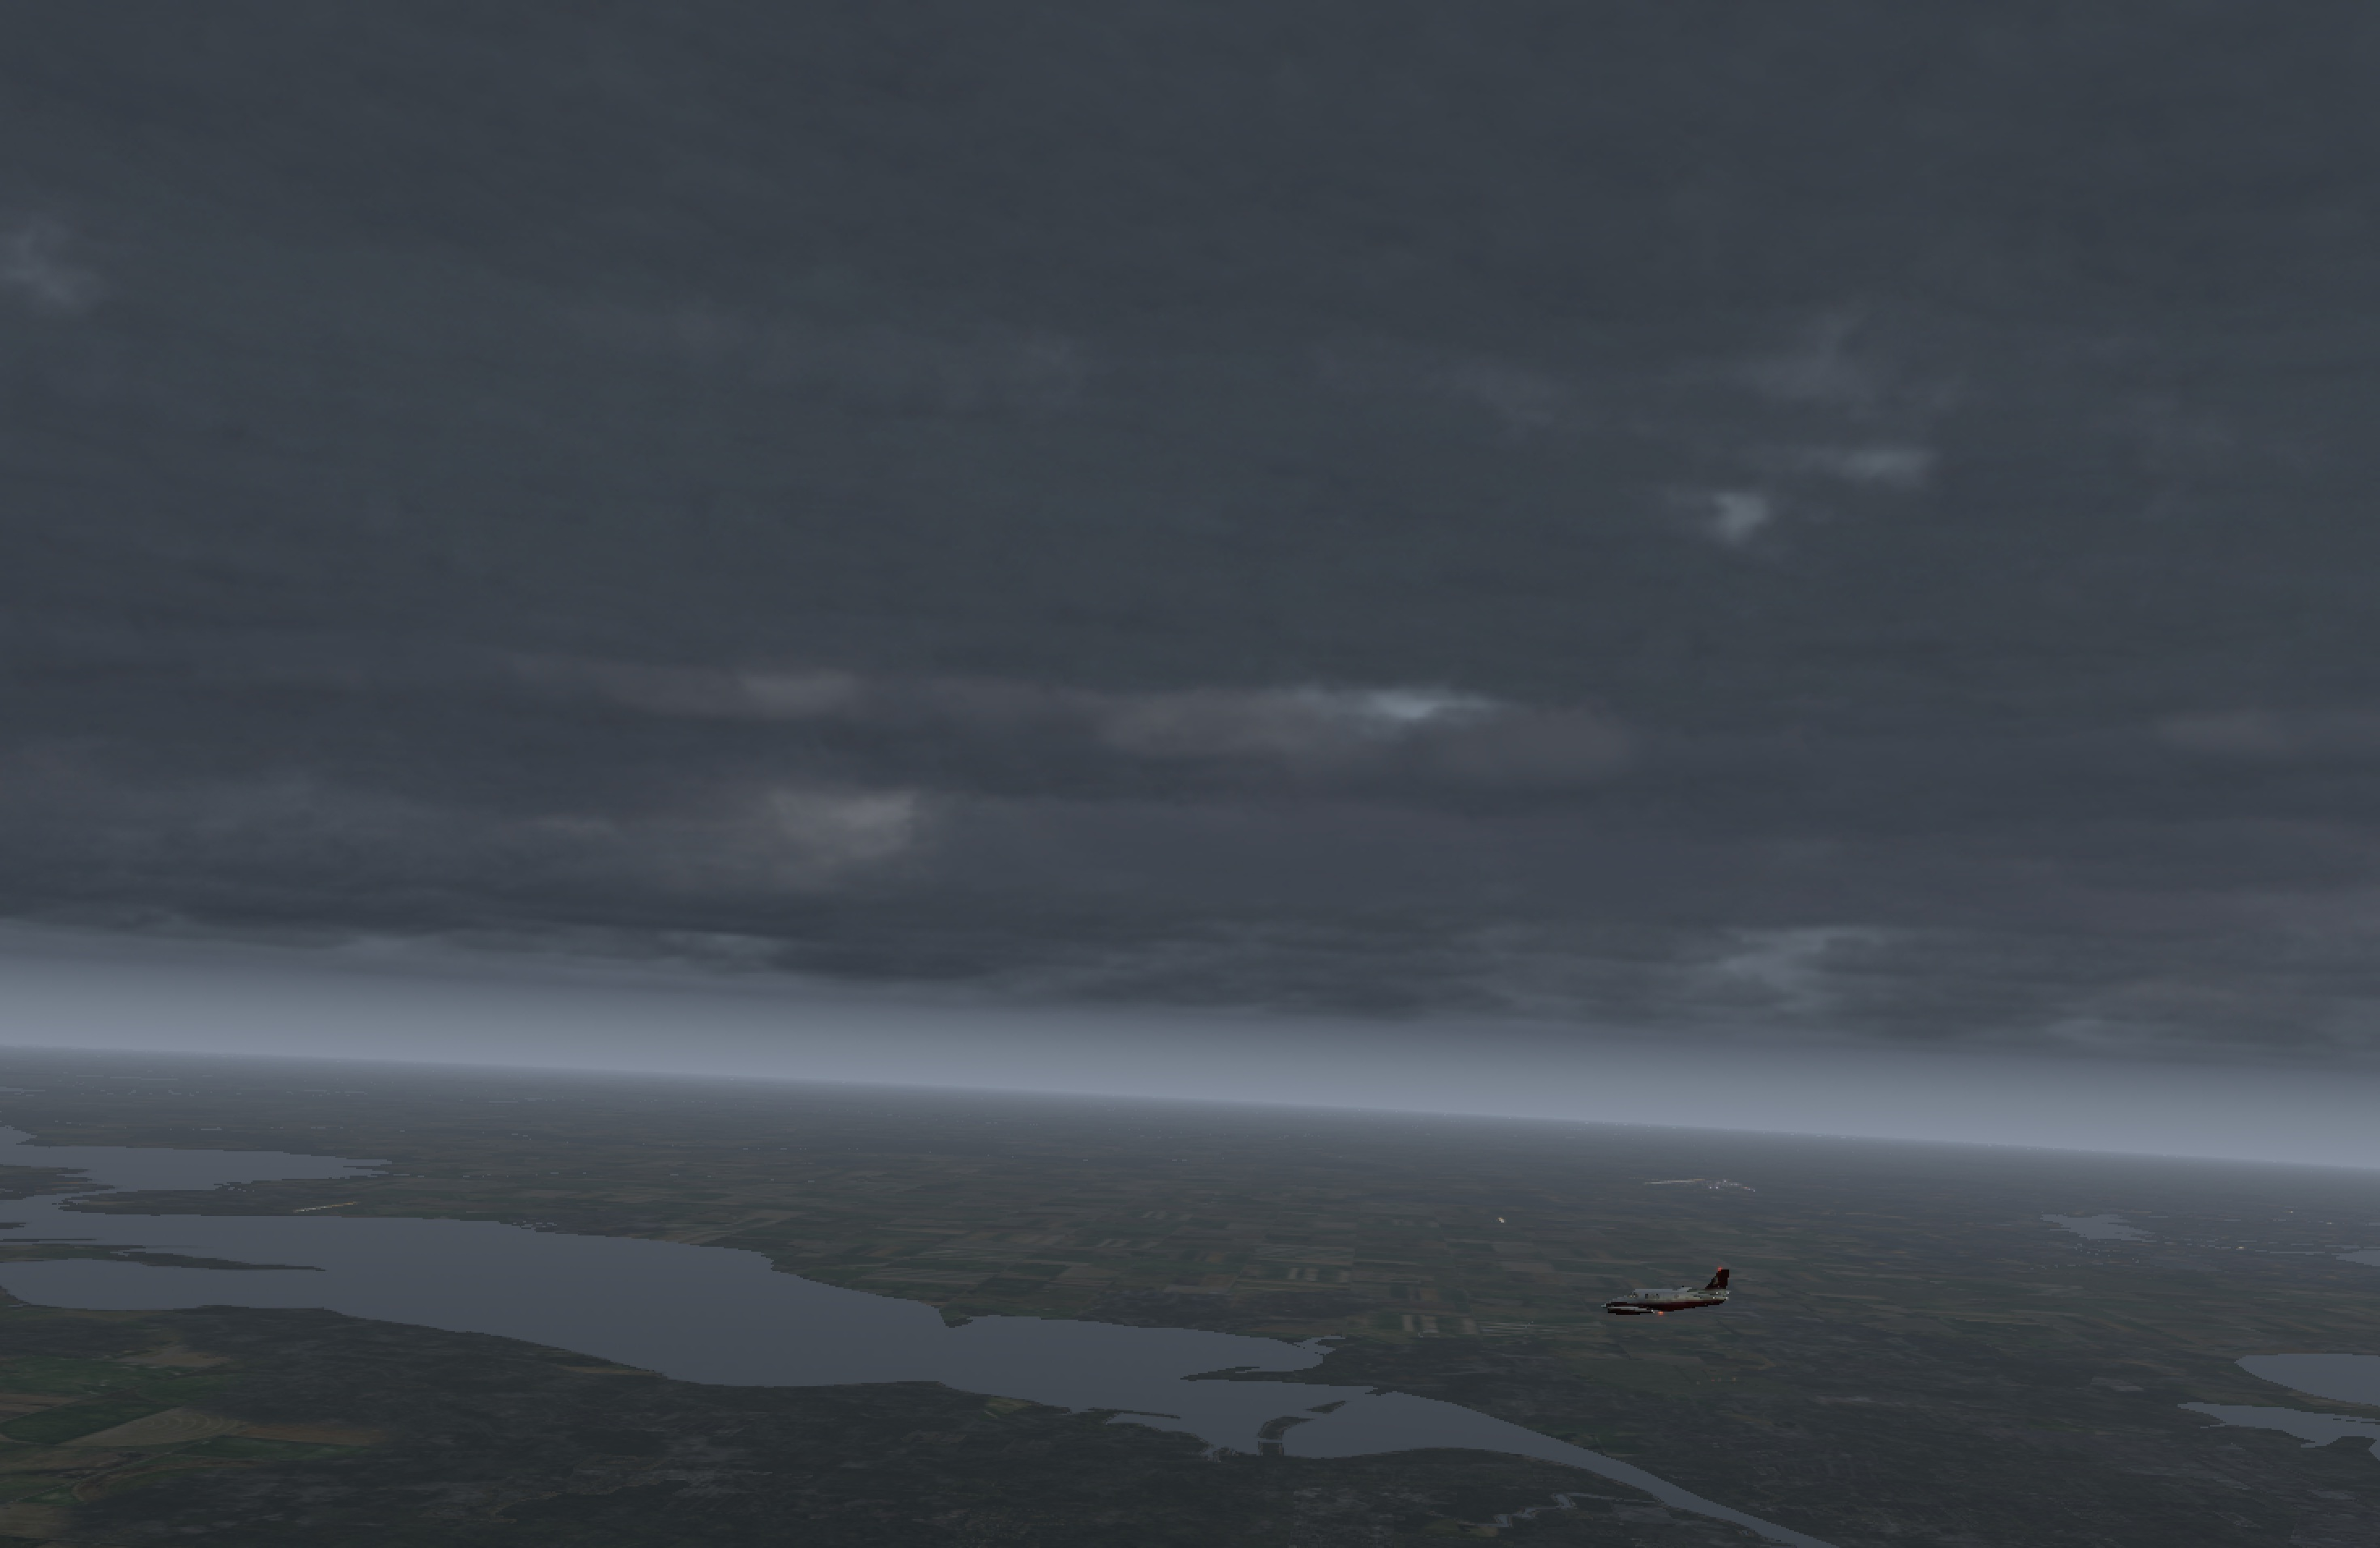aircraft: (1554, 1276, 1738, 1345)
